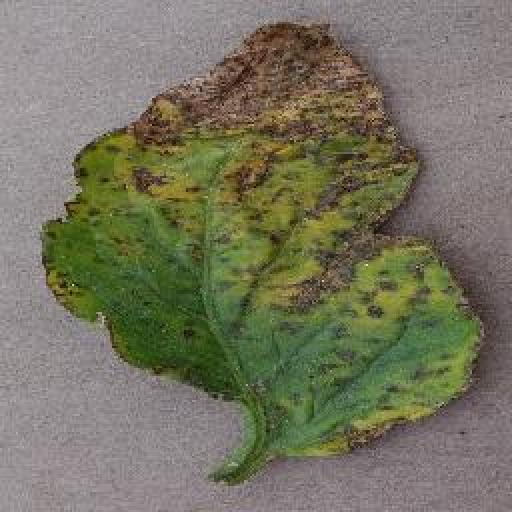Bacterial Spot: (33, 12, 488, 464)
